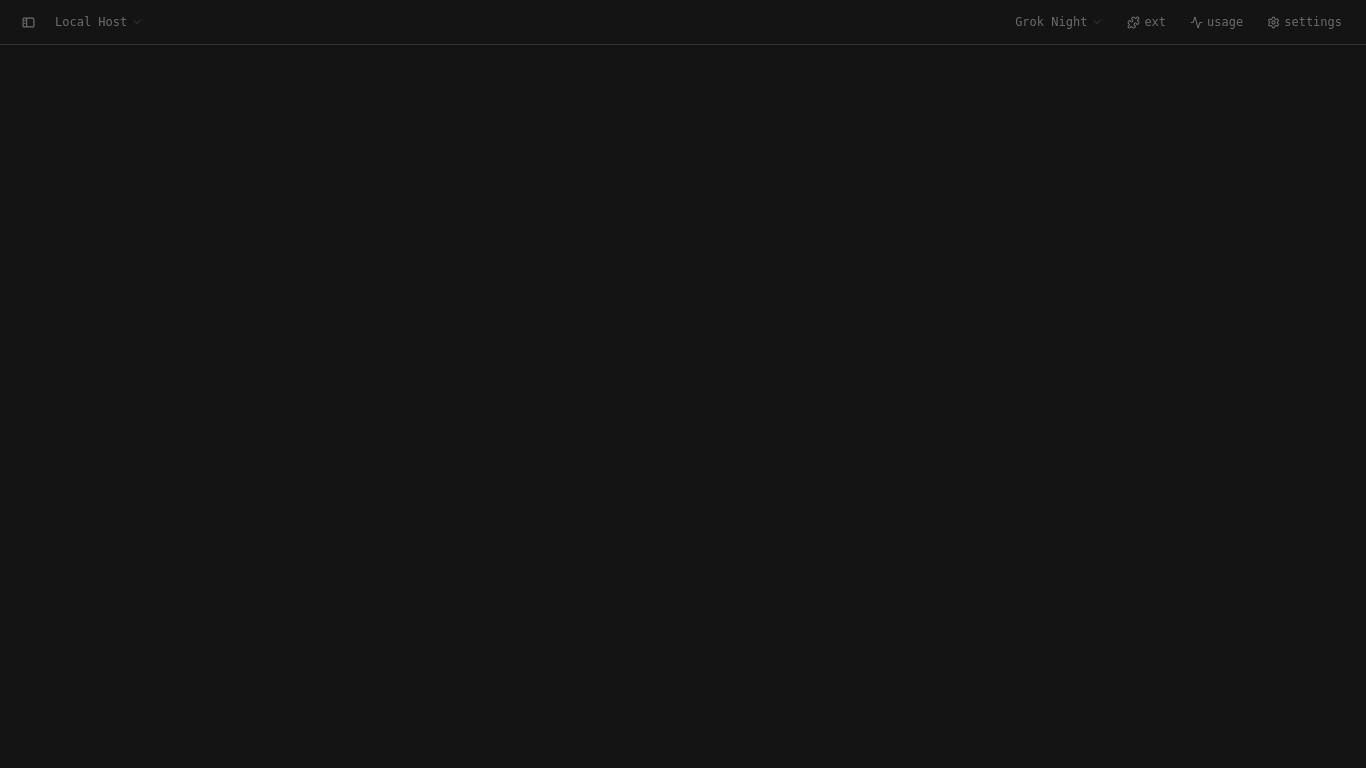
Scenario: TopBar › host 下拉：添加 Host 打开配对码弹窗
The image size is (1366, 768).
Click the button titled "右键可管理" at (99, 22), box [49,6,149,38]
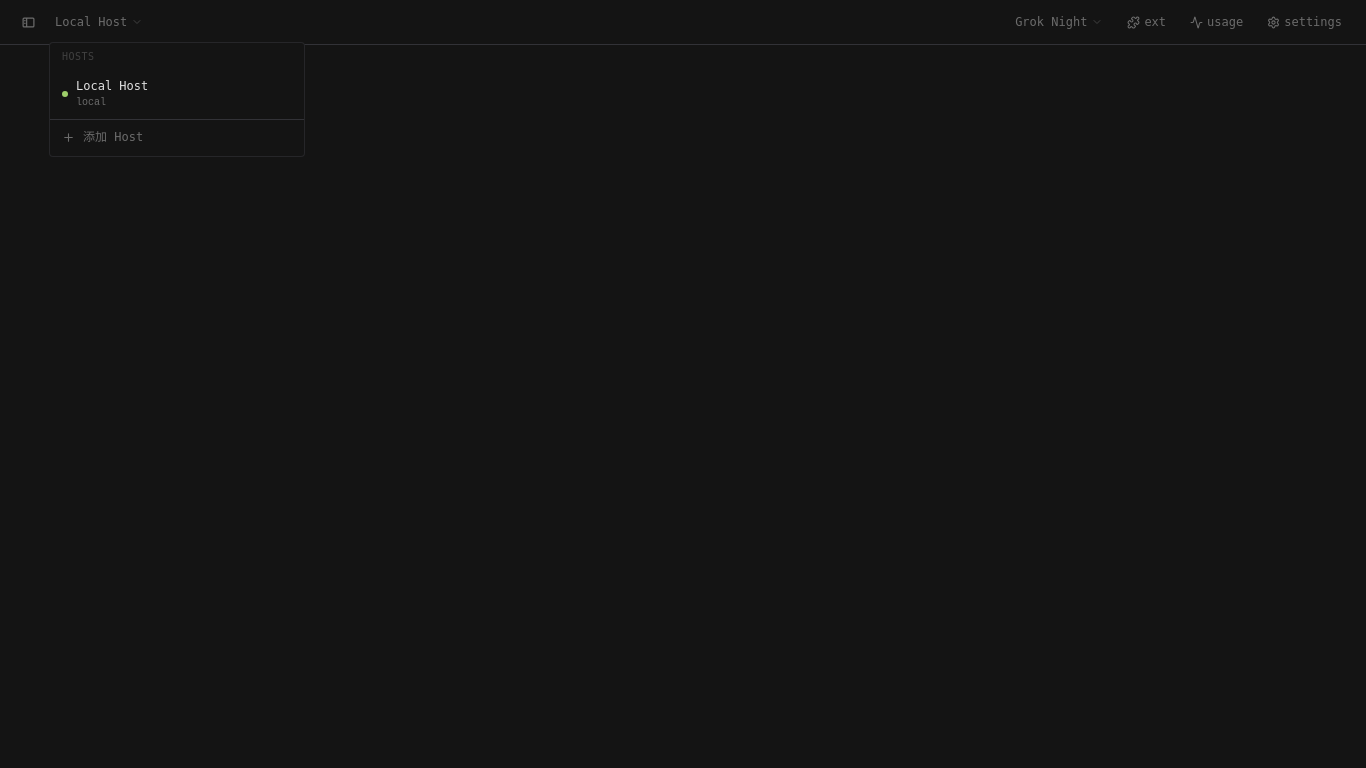
Click the button titled "获取新配对码" at (177, 138), box [50,120,304,156]
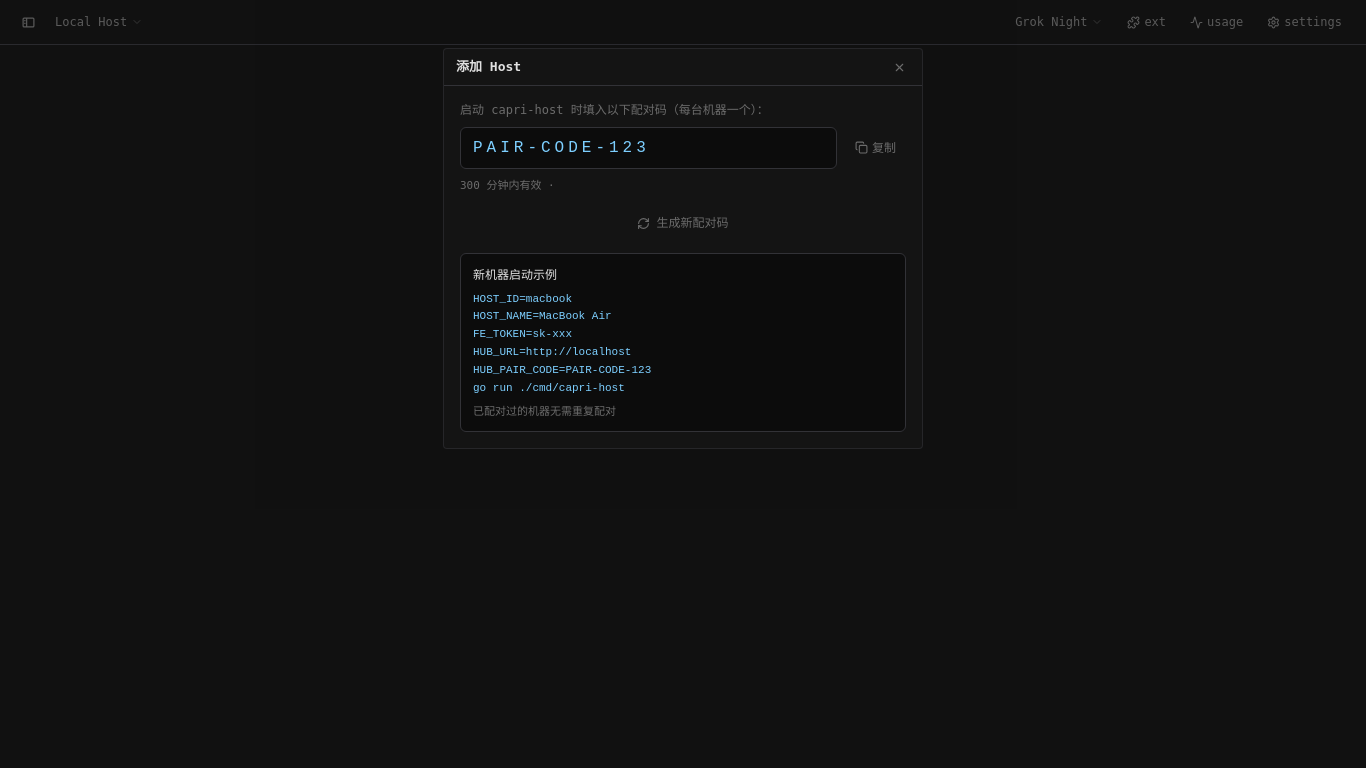
Check: the text "PAIR-CODE-123" is shown, box [460,126,837,169]
